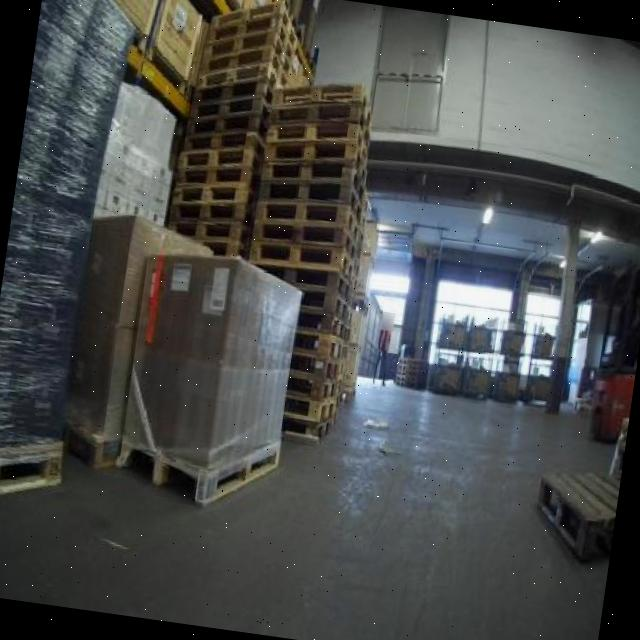pallet: (112, 430, 291, 513), (524, 459, 622, 568), (260, 68, 376, 130), (254, 82, 370, 144), (259, 118, 370, 180), (255, 142, 372, 196), (255, 158, 361, 214), (251, 184, 359, 238), (239, 230, 352, 276), (245, 209, 356, 255), (0, 430, 71, 501), (161, 185, 253, 238), (167, 169, 251, 223), (170, 150, 256, 200)
